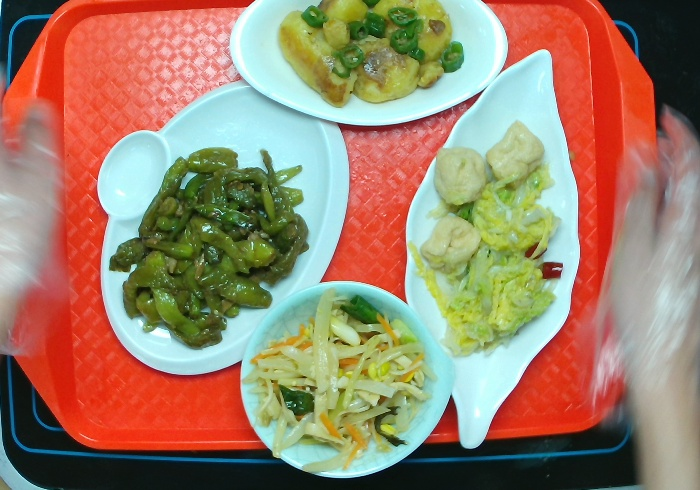RJxy-Bai_Se_Tuo_Yuan: (225, 1, 509, 126)
RJxy-Shu_Ye_Pan: (402, 46, 585, 452)
RJxy-Xiao_Jiao_Yuan_Wan: (237, 278, 459, 479)
RJxy-Zhan_Liao_Pan: (95, 75, 356, 377)
